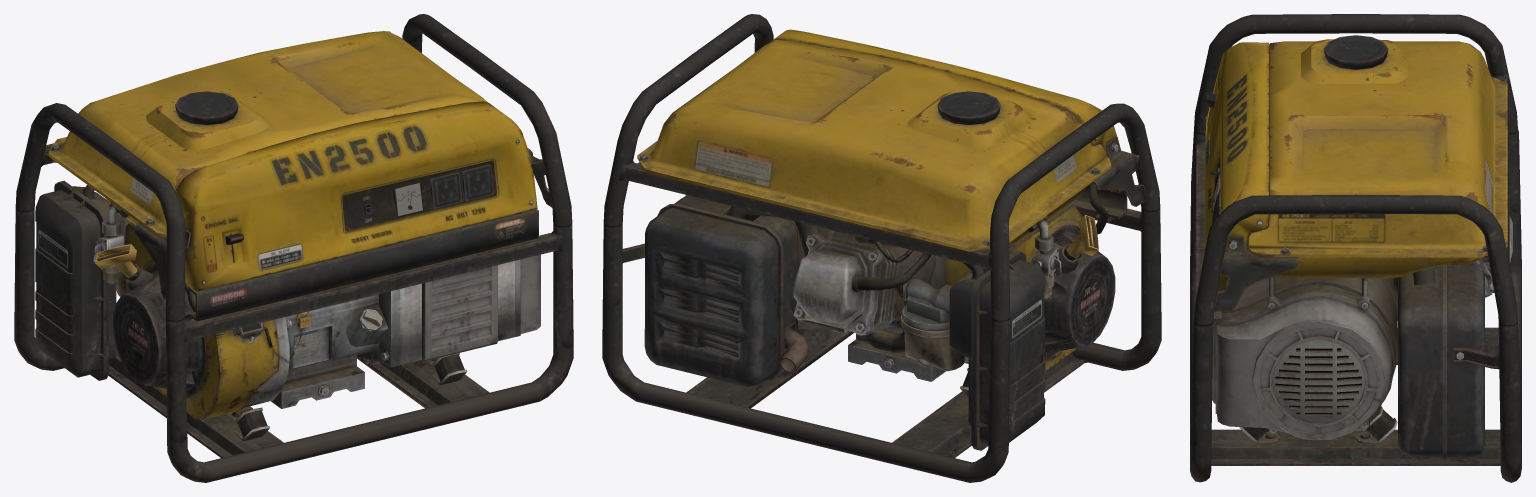
3 views of the same model, side by side, from view 1: azimuth 30°, elevation 25°; view 2: azimuth 150°, elevation 25°; view 3: azimuth 270°, elevation 25° (orthographic).
Visible parts, largest first — view 1: portable_generator; view 2: portable_generator; view 3: portable_generator.
Part boxes in pixels (<box>): portable_generator: <box>14,14,573,482</box>; portable_generator: <box>602,14,1161,482</box>; portable_generator: <box>1190,14,1521,482</box>.
Bounding box in the file's own units: 0.8169 × 0.5752 × 0.564.
2 materials, 2 textured.
